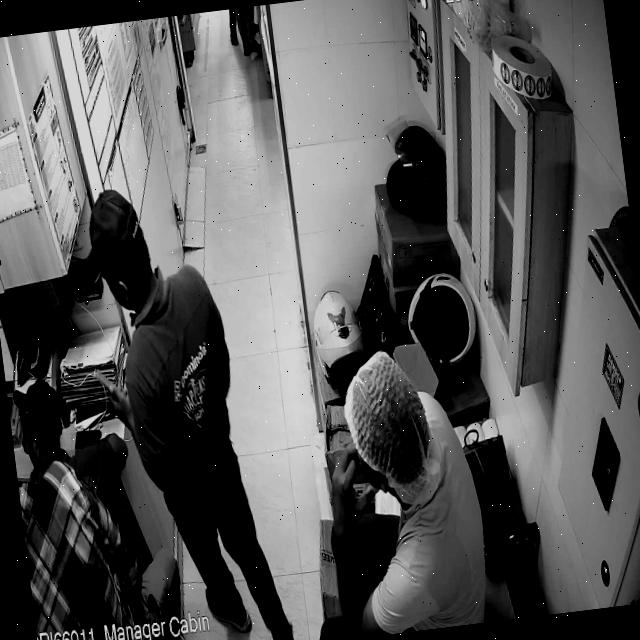helmet: (407, 272, 478, 369), (385, 116, 446, 217), (312, 289, 365, 390)
